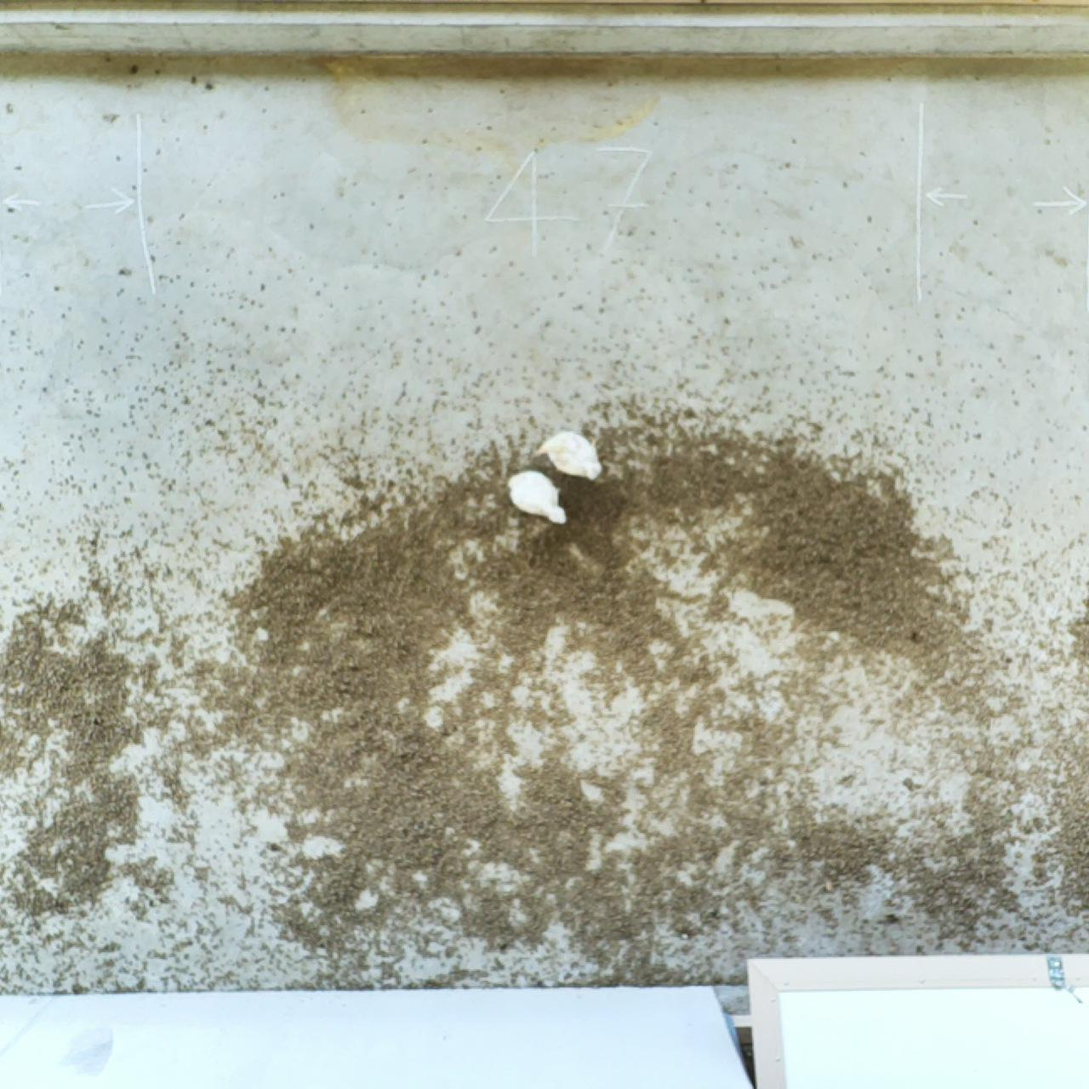chicken: (504, 467, 571, 529), (535, 429, 606, 480)
